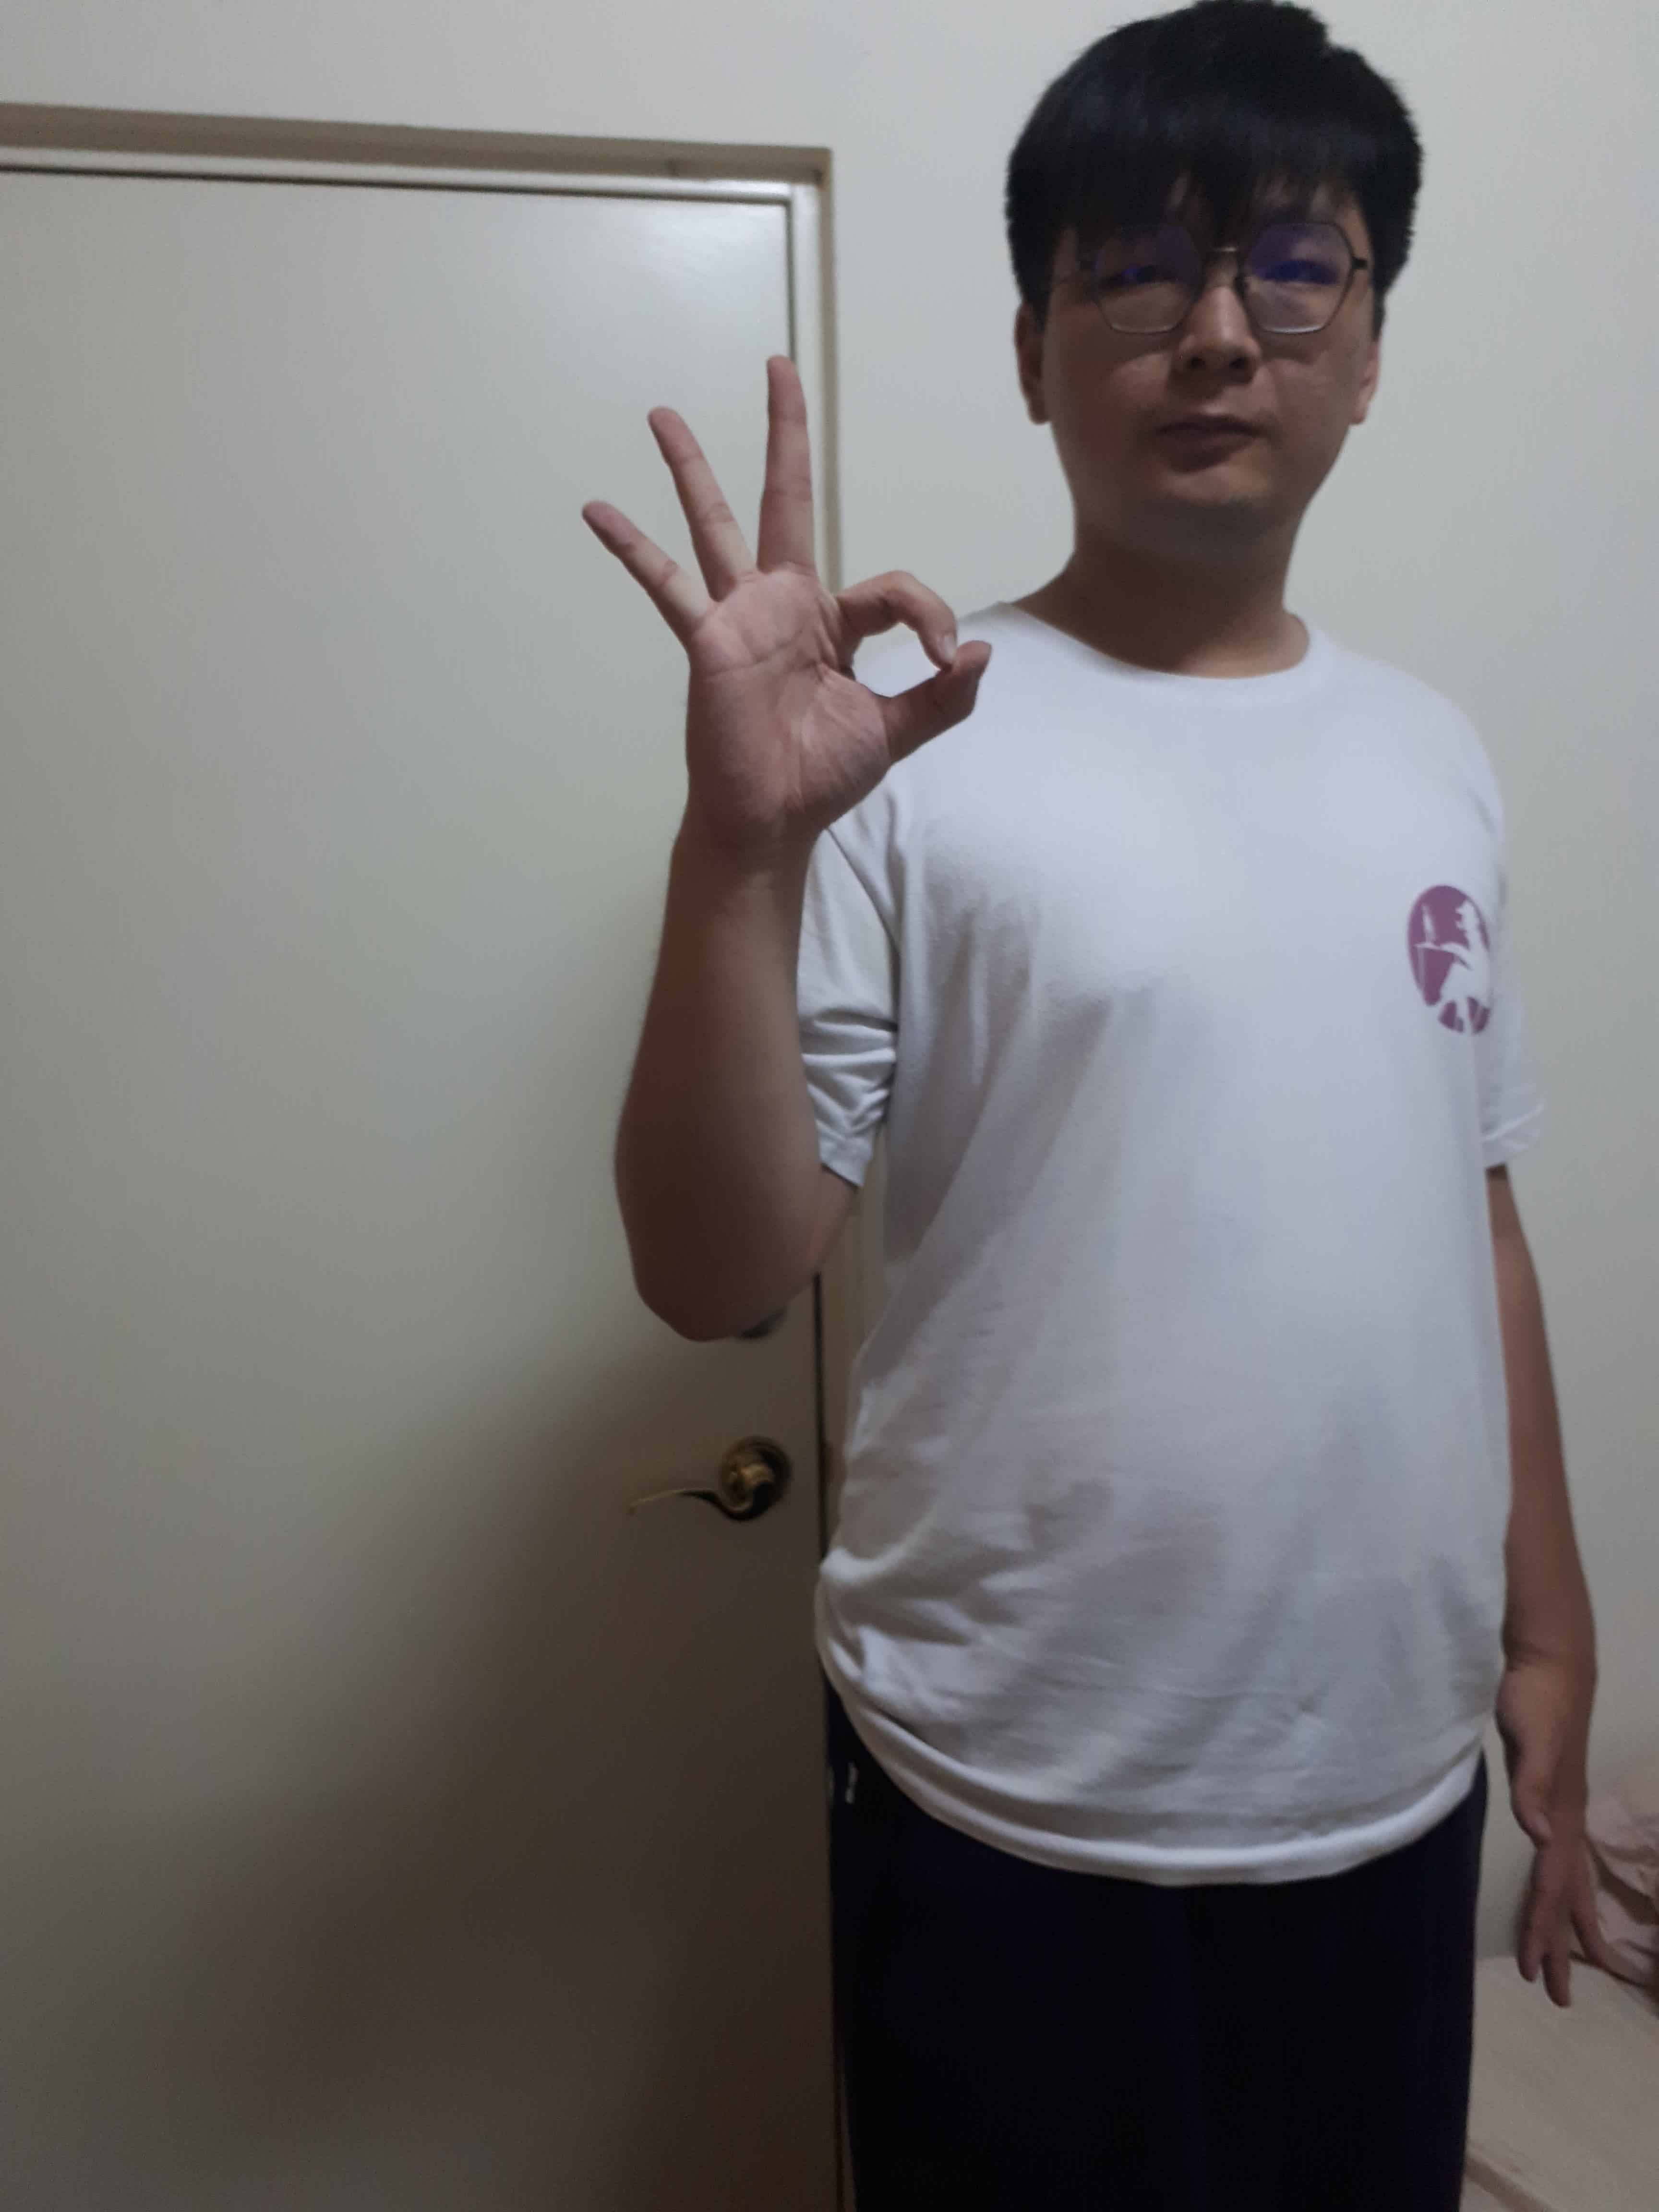ok: (573, 340, 1009, 873)
